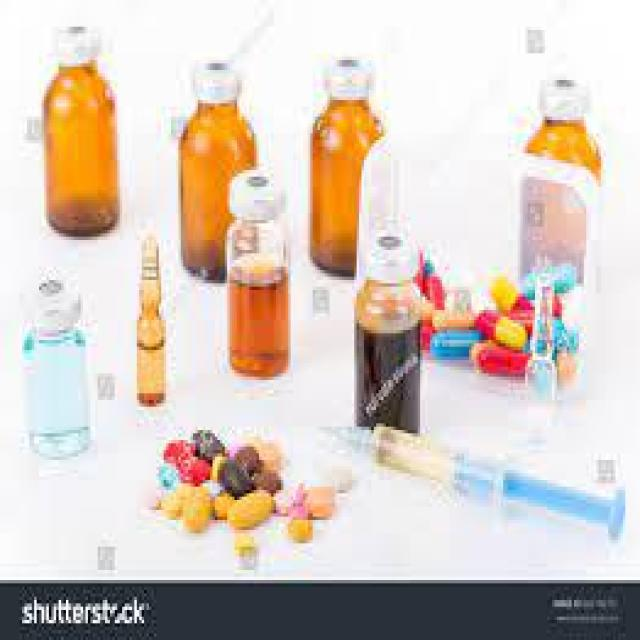B3: (298, 406, 633, 556), (32, 17, 122, 236), (12, 264, 105, 474), (215, 163, 303, 380), (342, 223, 427, 430), (124, 223, 180, 417), (525, 250, 562, 460)
